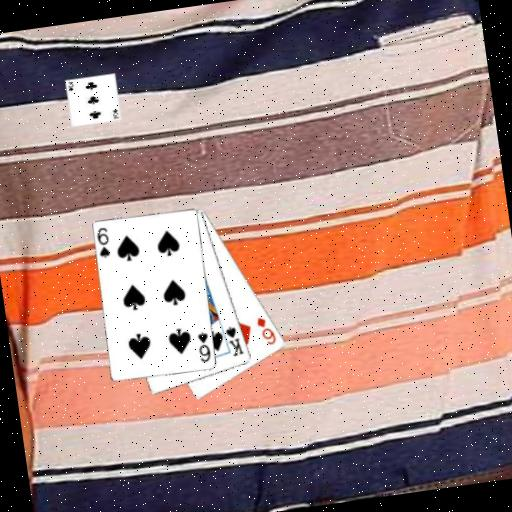6D: (253, 313, 279, 349)
6S: (194, 328, 214, 364), (93, 224, 113, 260)
KS: (222, 322, 246, 359)
